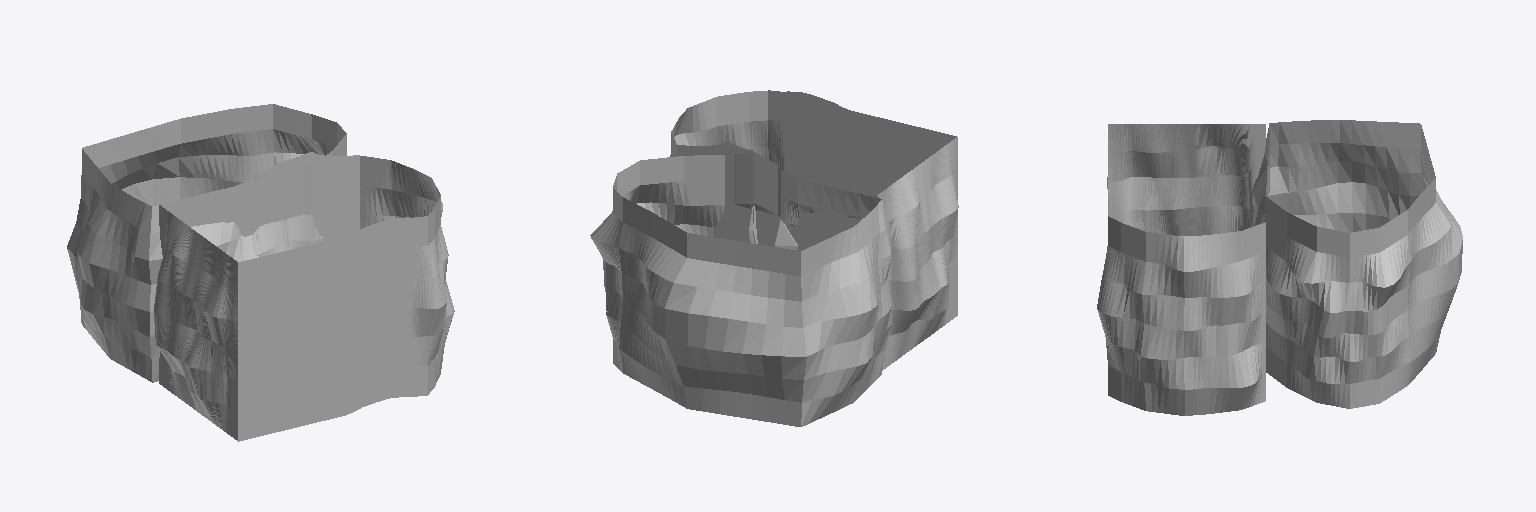
File: mountainEndLeftBottom.obj
3 views of the same model, side by side, from view 1: azimuth 30°, elevation 25°; view 2: azimuth 150°, elevation 25°; view 3: azimuth 270°, elevation 25° (orthographic).
Visible parts, largest first — view 1: Landscape, Sphere.002; view 2: Sphere.002, Landscape; view 3: Sphere.002, Landscape.
Part boxes in pixels (bbox=[...]): Landscape: bbox=[154, 152, 454, 441]; Sphere.002: bbox=[67, 104, 346, 382]; Sphere.002: bbox=[590, 153, 892, 426]; Landscape: bbox=[670, 90, 958, 370]; Sphere.002: bbox=[1253, 120, 1462, 408]; Landscape: bbox=[1097, 124, 1265, 415].
Size of the model in its own units: 16.39 by 10.99 by 18.67.